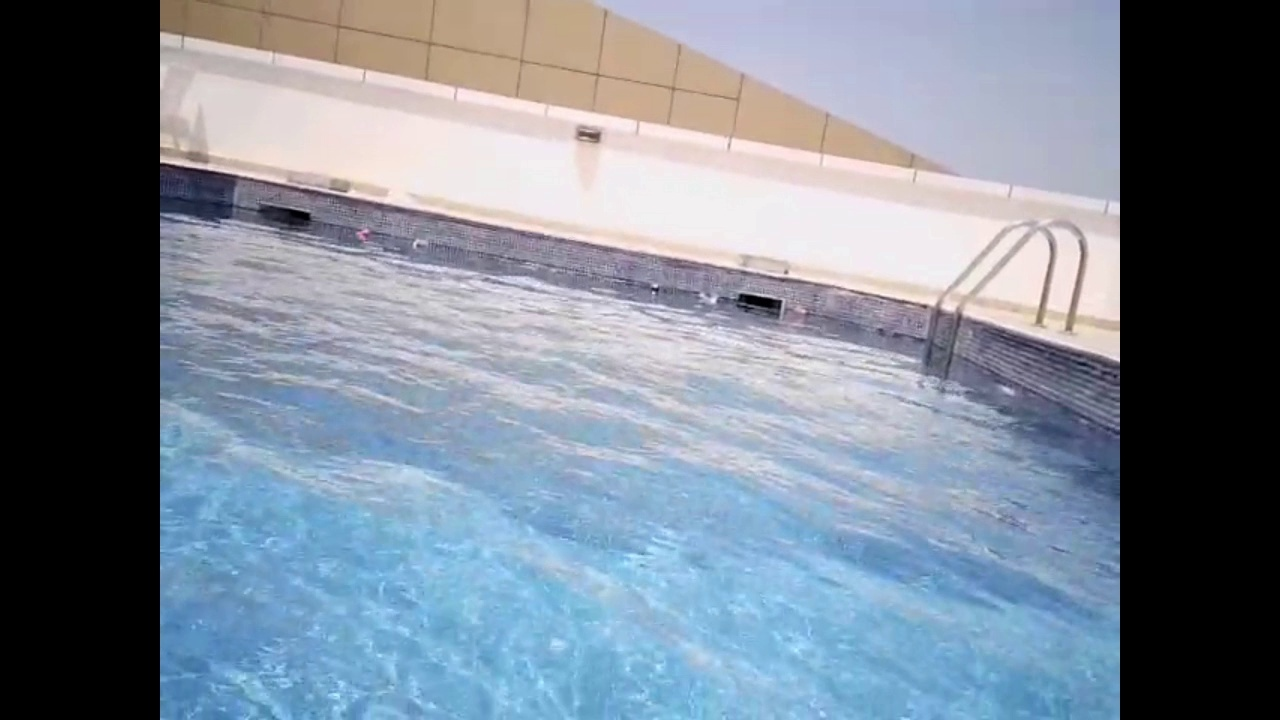debris: (405, 233, 438, 257), (691, 285, 719, 308), (642, 277, 665, 298), (789, 300, 812, 320), (352, 222, 371, 245), (706, 288, 724, 307)
